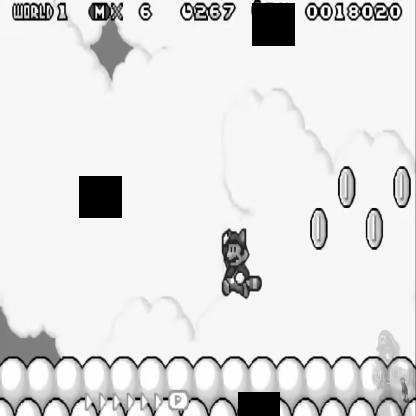Mario: (219, 228, 266, 301)
moneda: (392, 161, 412, 209), (364, 205, 385, 250), (311, 208, 328, 251), (338, 170, 357, 207), (250, 0, 265, 21)
